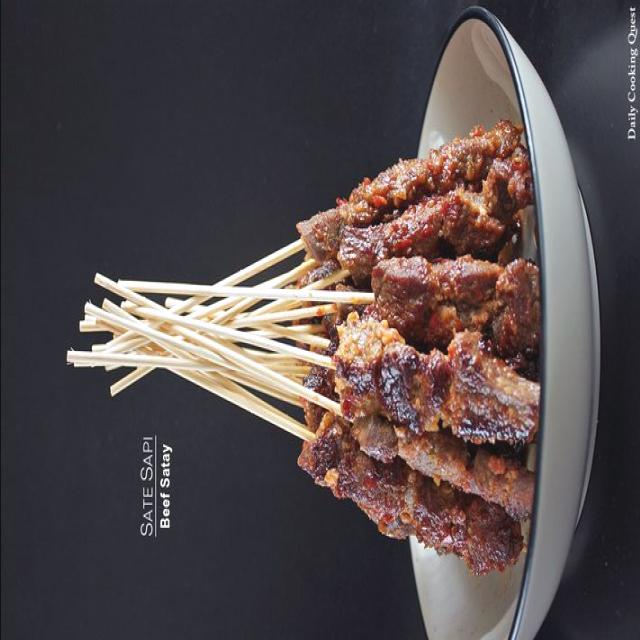sate: (68, 120, 545, 575)
